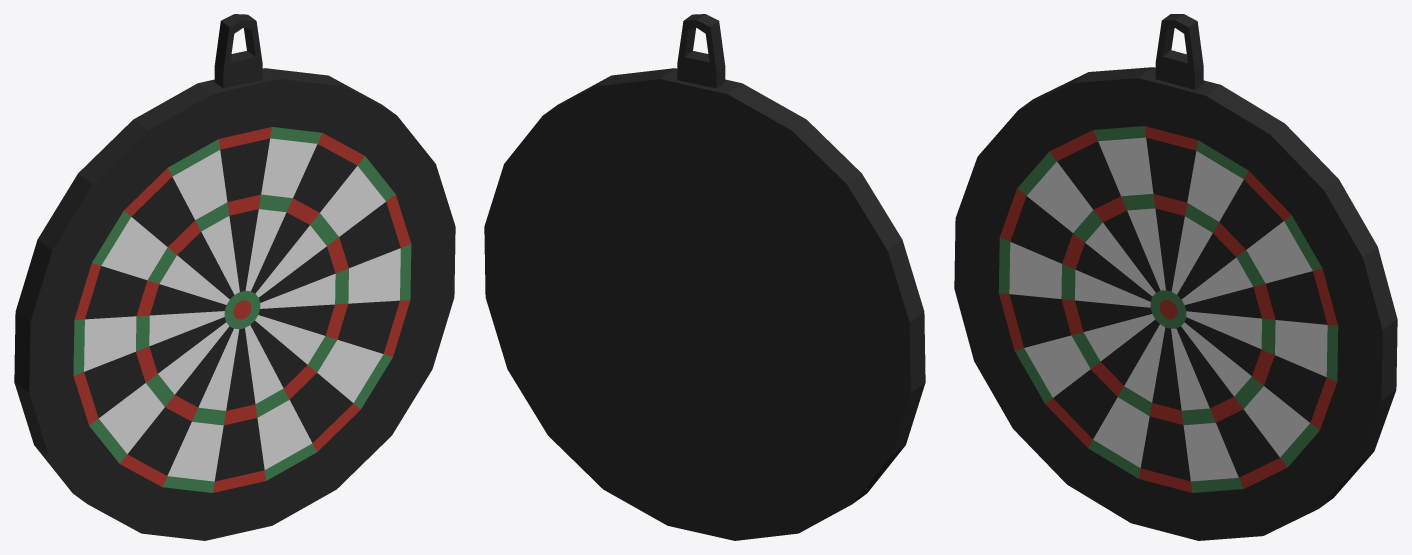
File: DisqueFlechette.fbx
3 views of the same model, side by side, from view 1: azimuth 30°, elevation 25°; view 2: azimuth 150°, elevation 25°; view 3: azimuth 330°, elevation 25° (orthographic).
Visible parts, largest first — view 1: DisqueFlechettes; view 2: DisqueFlechettes; view 3: DisqueFlechettes.
Part boxes in pixels (bbox=[...]): DisqueFlechettes: bbox=[14, 14, 455, 540]; DisqueFlechettes: bbox=[484, 14, 925, 540]; DisqueFlechettes: bbox=[954, 14, 1397, 540].
Size of the model in its own units: 30.63 by 34.98 by 1.85.
